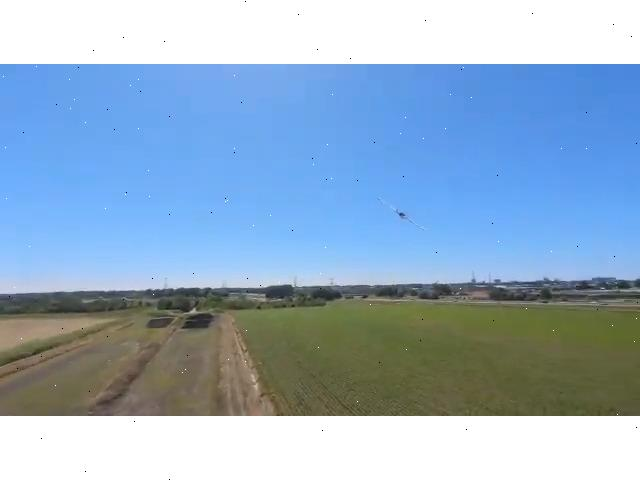Anti-Drone: (369, 190, 443, 244)
